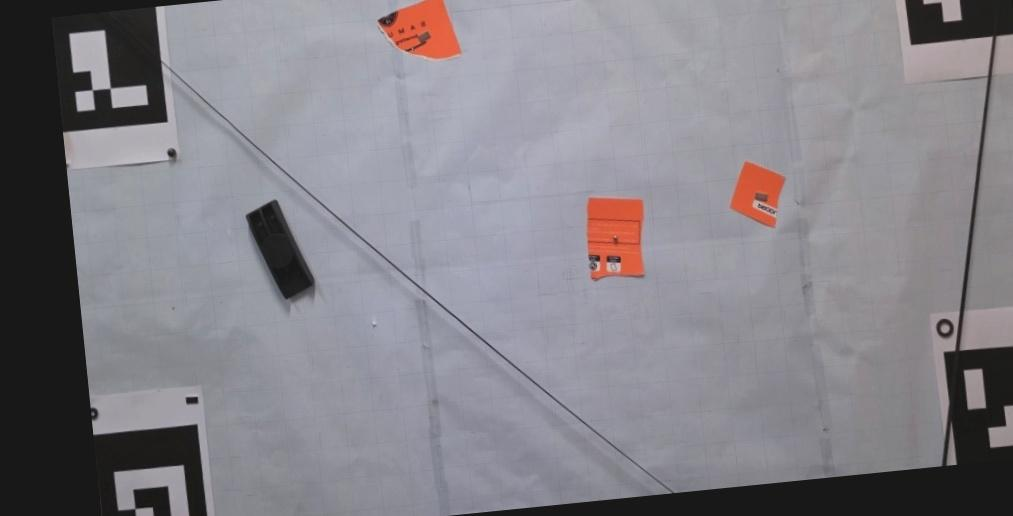obstacle: (246, 200, 314, 301), (376, 0, 463, 61), (586, 197, 645, 281), (729, 162, 786, 228)
